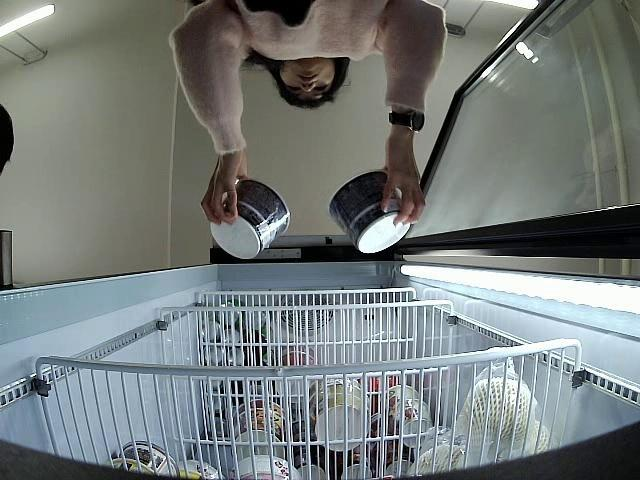07_buldak_L: (327, 169, 410, 254), (211, 178, 290, 261)
